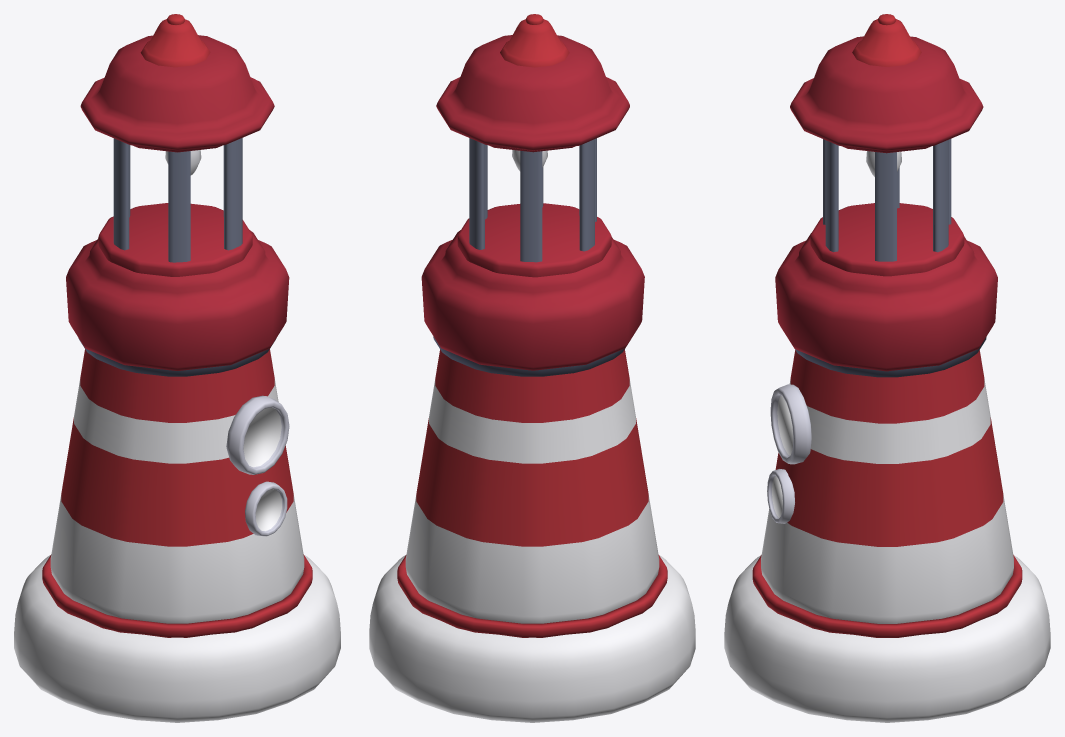
The model's file is LightHouse.fbx.
3 views of the same model, side by side, from view 1: azimuth 30°, elevation 25°; view 2: azimuth 150°, elevation 25°; view 3: azimuth 270°, elevation 25° (orthographic).
Visible parts, largest first — view 1: Cylinder.001, Cylinder.002, Cylinder, Cylinder.015, Cylinder.014, Cylinder.011, Cylinder.009, Cylinder.003, Cylinder.010, Cylinder.012, Cylinder.008; view 2: Cylinder.001, Cylinder.002, Cylinder, Cylinder.015, Cylinder.014, Cylinder.007, Cylinder.003, Cylinder.008, Cylinder.006; view 3: Cylinder.001, Cylinder.002, Cylinder, Cylinder.015, Cylinder.014, Cylinder.011, Cylinder.005, Cylinder.003, Cylinder.006, Cylinder.010, Cylinder.012.
Boxes of the visible parts, x1,y1,x2,y2 form: Cylinder.001: (50, 338, 304, 623); Cylinder.002: (66, 35, 289, 370); Cylinder: (14, 555, 340, 722); Cylinder.015: (98, 203, 252, 276); Cylinder.014: (42, 554, 312, 637); Cylinder.011: (226, 395, 289, 474); Cylinder.009: (168, 151, 190, 262); Cylinder.003: (140, 19, 210, 67); Cylinder.010: (224, 138, 242, 250); Cylinder.012: (245, 481, 287, 536); Cylinder.008: (113, 138, 129, 250); Cylinder.001: (405, 336, 659, 623); Cylinder.002: (421, 35, 644, 370); Cylinder: (369, 555, 695, 722); Cylinder.015: (457, 203, 611, 277); Cylinder.014: (397, 555, 667, 637); Cylinder.007: (520, 151, 542, 262); Cylinder.003: (500, 19, 569, 67); Cylinder.008: (579, 139, 594, 251); Cylinder.006: (469, 138, 484, 249); Cylinder.001: (761, 337, 1013, 623); Cylinder.002: (775, 36, 997, 371); Cylinder: (724, 555, 1050, 722); Cylinder.015: (810, 203, 964, 276); Cylinder.014: (752, 555, 1022, 637); Cylinder.011: (770, 384, 811, 464); Cylinder.005: (875, 152, 896, 261); Cylinder.003: (852, 19, 921, 66); Cylinder.006: (933, 140, 948, 252); Cylinder.010: (825, 140, 838, 252); Cylinder.012: (767, 469, 794, 523).
Bounding box in the file's own units: 854 × 1856 × 854.
1 material, 1 textured.
